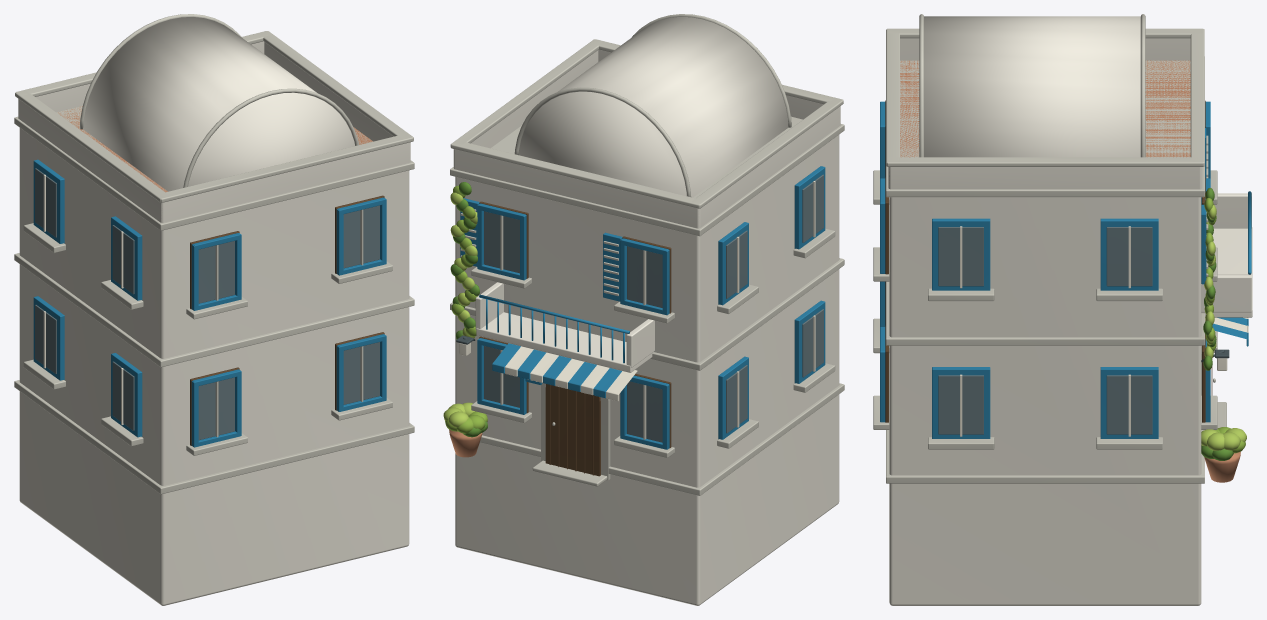
Rendered from town_house_2_1.glb.
3 renders of one model, left to right at view 1: azimuth 30°, elevation 25°; view 2: azimuth 150°, elevation 25°; view 3: azimuth 270°, elevation 25°, orthographic. The views are drawn at different scales.
Parts seen in each view (by area): view 1: TownHouse2_1_Geometry; view 2: TownHouse2_1_Geometry; view 3: TownHouse2_1_Geometry.
Part boxes in pixels (x1,y1,x2,y2): TownHouse2_1_Geometry: (14,14,414,605); TownHouse2_1_Geometry: (443,14,844,605); TownHouse2_1_Geometry: (873,14,1252,605).
Size of the model in its own units: 6.62 by 10.97 by 7.29.
